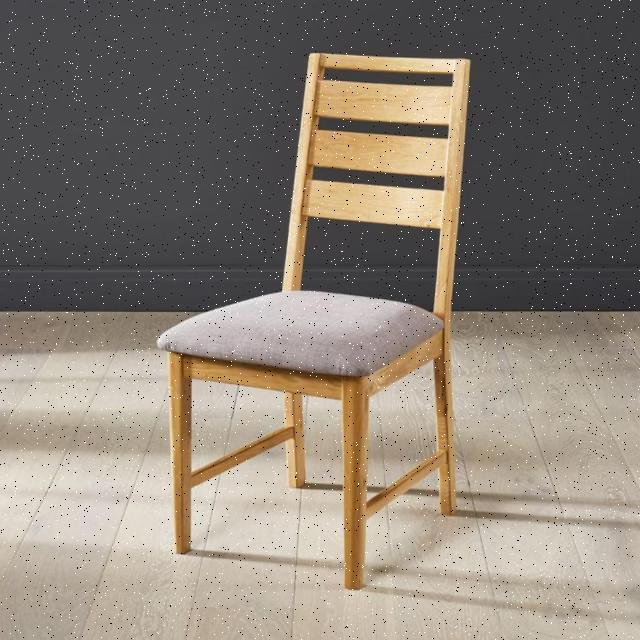bottle: (153, 42, 476, 592)
